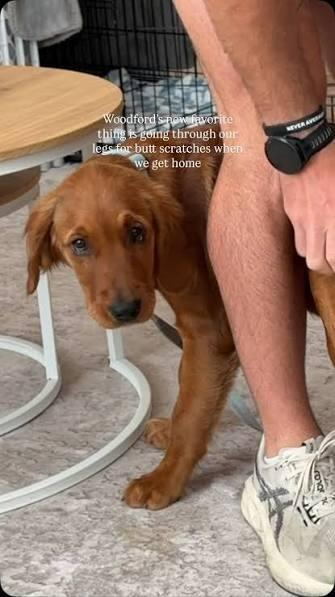adult_dog: (21, 124, 335, 511)
non-dog: (170, 0, 335, 590)
